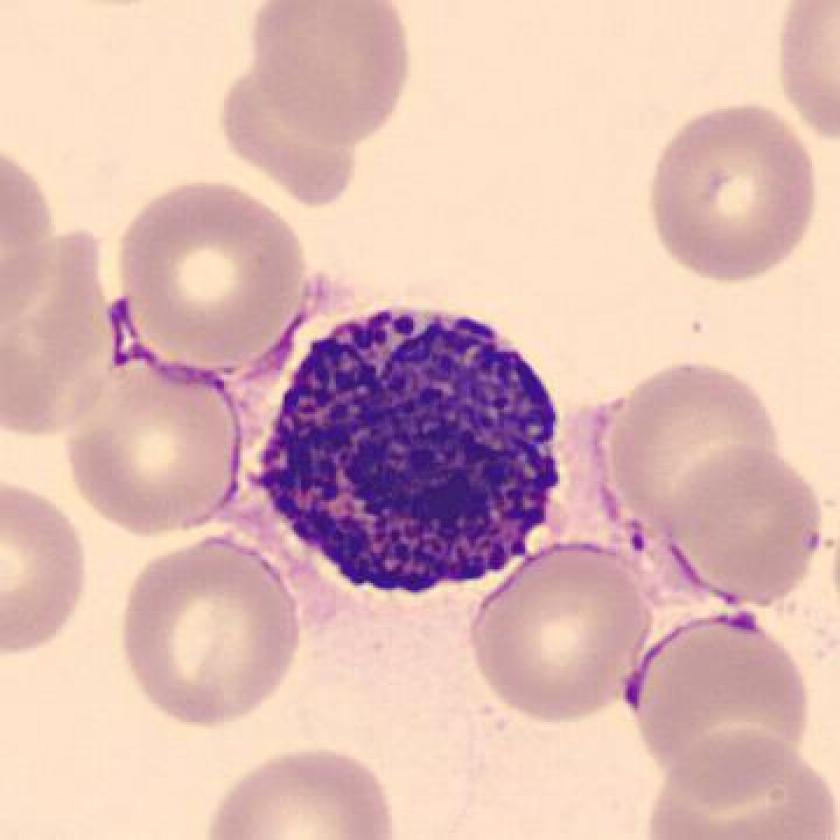basophil: (255, 304, 573, 619)
